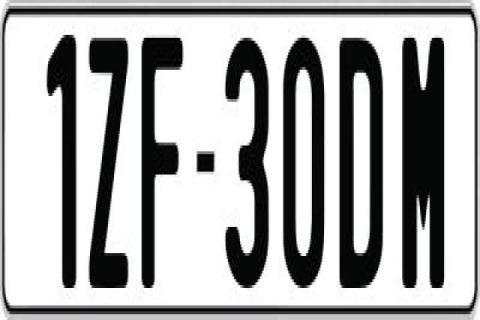0: (225, 35, 275, 291), (280, 38, 322, 291), (43, 29, 74, 288)
D: (340, 38, 388, 294)
F: (138, 38, 182, 294)
M: (401, 35, 449, 288)
Z: (88, 32, 128, 291)
